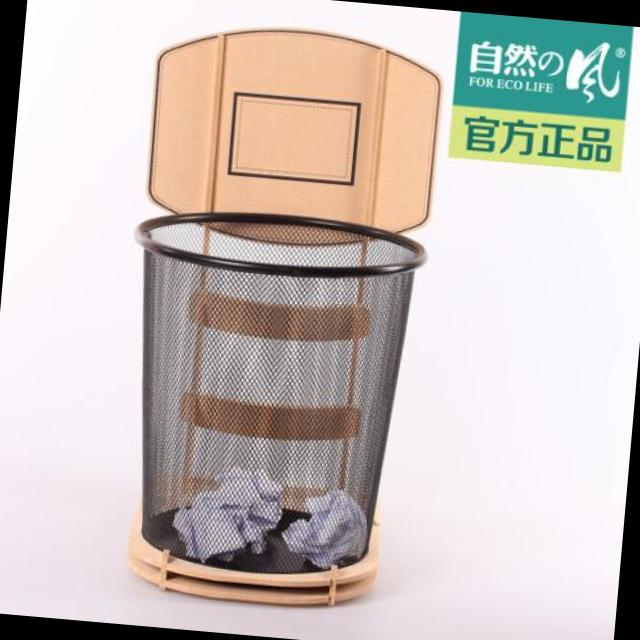crumpled_paper: (165, 482, 271, 567), (278, 482, 373, 576), (199, 460, 287, 536)
dustbin: (100, 195, 433, 588)
